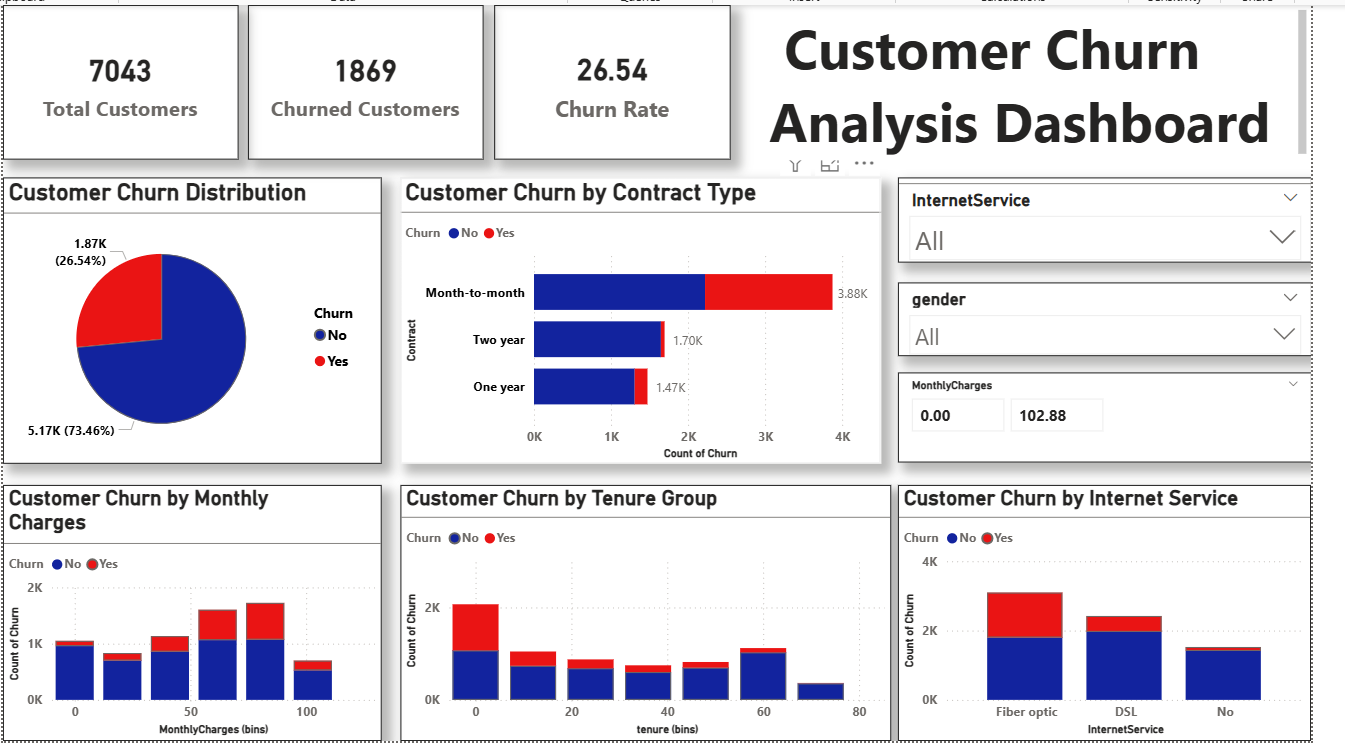

The dashboard page shown, as its layout file describes it:
{"tool":"powerbi","page":{"name":"Page 1","canvas":[1280,720],"ordinal":0},"visuals":[{"type":"card","fields":{"Values":["churn.Churn Rate"]},"box":[480,0,231.4,151.4],"z":0},{"type":"pieChart","title":"Customer Churn Distribution","fields":{"Y":["CountNonNull(churn.Churn)"],"Category":["churn.Churn"]},"box":[0,168.8,370.5,279.9],"z":1000},{"type":"barChart","title":"Customer Churn by Contract Type","fields":{"Category":["churn.Contract"],"Y":["CountNonNull(churn.Churn)"],"Series":["churn.Churn"]},"box":[388.6,168.6,470,280],"z":2000},{"type":"columnChart","title":"Customer Churn by Tenure Group","fields":{"Y":["CountNonNull(churn.Churn)"],"Series":["churn.Churn"],"Category":["churn.tenure (bins)"]},"box":[388.6,470,480,250],"z":3000},{"type":"columnChart","title":"Customer Churn by Monthly Charges","fields":{"Y":["CountNonNull(churn.Churn)"],"Series":["churn.Churn"],"Category":["churn.MonthlyCharges (bins)"]},"box":[0,470,370,250],"z":4000},{"type":"columnChart","title":"Customer Churn by Internet Service","fields":{"Y":["CountNonNull(churn.Churn)"],"Series":["churn.Churn"],"Category":["churn.InternetService"]},"box":[875.7,470,404.3,250],"z":5000},{"type":"card","fields":{"Values":["churn.Total Churn"]},"box":[240,0,230,151.4],"z":6000},{"type":"card","fields":{"Values":["churn.Total Customers"]},"box":[0,0,230,151.4],"z":7000},{"type":"slicer","fields":{"Values":["churn.InternetService"]},"box":[875,168.3,405,83.3],"z":8000},{"type":"slicer","fields":{"Values":["churn.gender"]},"box":[875,271.7,405,71.7],"z":9000},{"type":"slicer","fields":{"Values":["churn.MonthlyCharges (bins)"]},"box":[875,360,405,88.3],"z":10000},{"type":"textbox","box":[745,0,535,151.7],"z":11000}]}

Visuals, with their boxes in screenshot pixels (x1, y1, x2, y2):
card - churn.Churn Rate: [492, 4, 727, 157]
"Customer Churn Distribution" pieChart: [4, 175, 380, 460]
"Customer Churn by Contract Type" barChart: [399, 175, 877, 460]
"Customer Churn by Tenure Group" columnChart: [399, 482, 887, 736]
"Customer Churn by Monthly Charges" columnChart: [4, 482, 380, 736]
"Customer Churn by Internet Service" columnChart: [894, 482, 1305, 736]
card - churn.Total Churn: [248, 4, 482, 157]
card - churn.Total Customers: [4, 4, 237, 157]
slicer - churn.InternetService: [893, 175, 1305, 259]
slicer - churn.gender: [893, 280, 1305, 353]
slicer - churn.MonthlyCharges (bins): [893, 370, 1305, 459]
textbox: [761, 4, 1305, 158]
